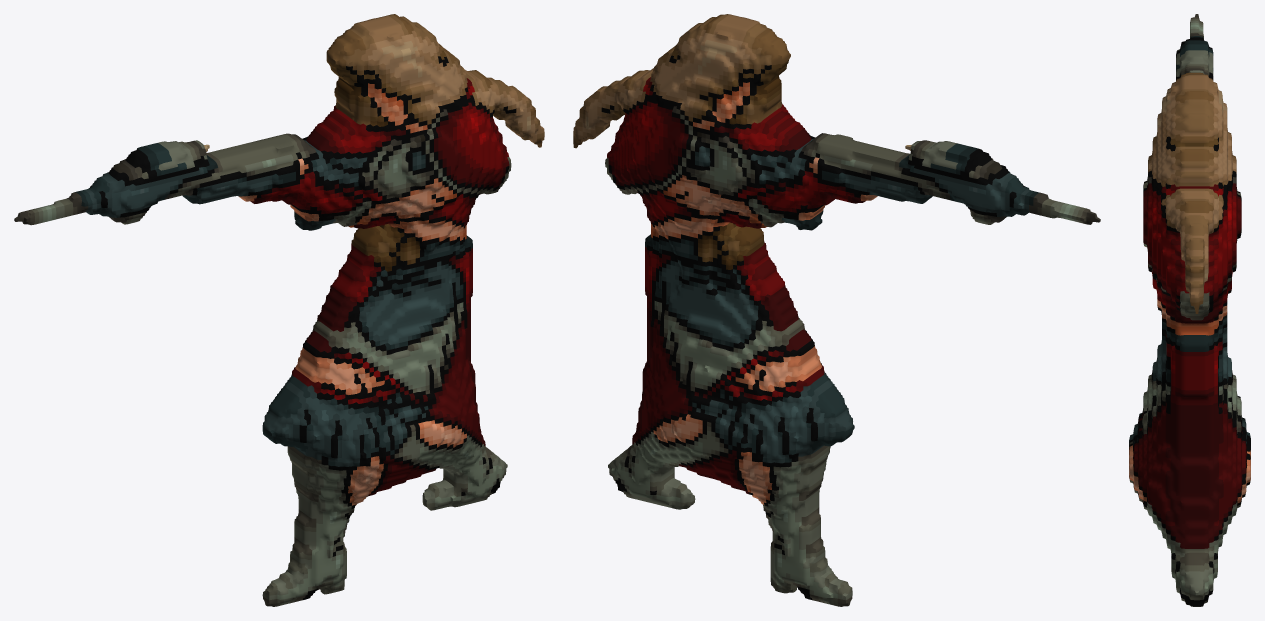
File: Fight_106_2_10.obj
The picture shows the model from 3 angles, left to right: view 1: azimuth 30°, elevation 25°; view 2: azimuth 150°, elevation 25°; view 3: azimuth 270°, elevation 25°; orthographic projection. The views are drawn at different scales.
Size of the model in its own units: 12.38 by 12.5 by 2.6.
Materials: 1 (1 with a texture image).
